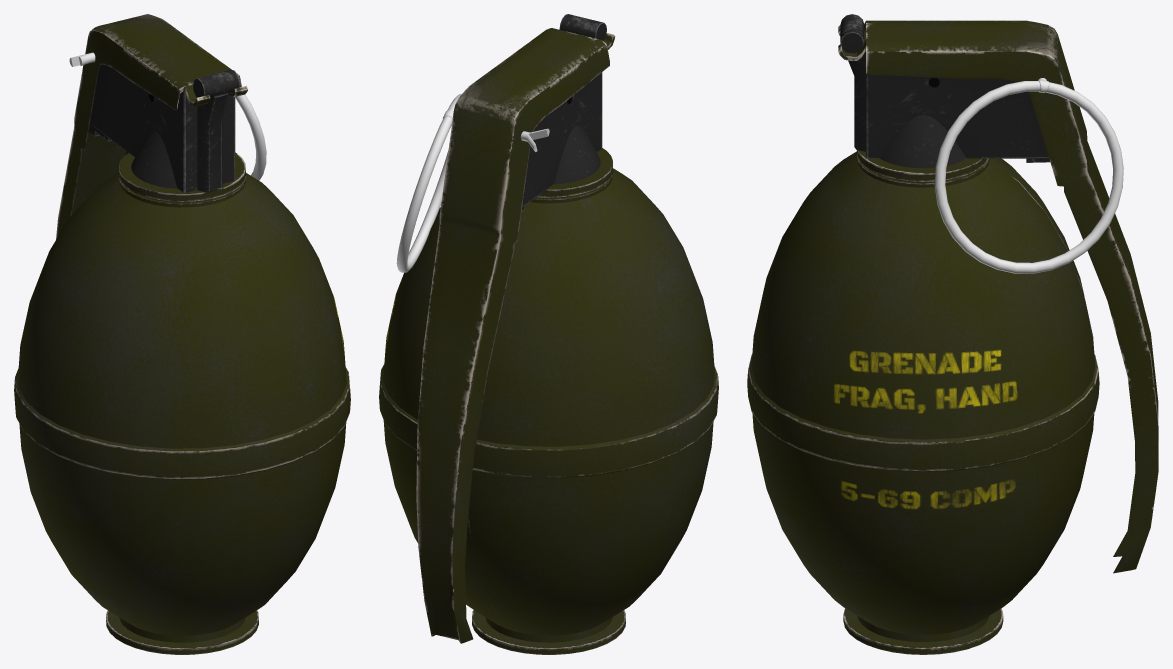
The model's file is grenade.glb.
3 views of the same model, side by side, from view 1: azimuth 30°, elevation 25°; view 2: azimuth 150°, elevation 25°; view 3: azimuth 270°, elevation 25° (orthographic). The views are drawn at different scales.
Visible parts, largest first — view 1: Grenade, Pin; view 2: Grenade, Pin; view 3: Grenade, Pin.
Boxes of the visible parts, x1,y1,x2,y2 form: Grenade: (14, 14, 350, 654); Pin: (69, 52, 266, 180); Grenade: (379, 14, 718, 654); Pin: (396, 94, 549, 272); Grenade: (747, 14, 1158, 654); Pin: (934, 78, 1123, 273).
Bounding box in the file's own units: 0.0544 × 0.1018 × 0.0635.
Materials: 2 (1 with a texture image).
